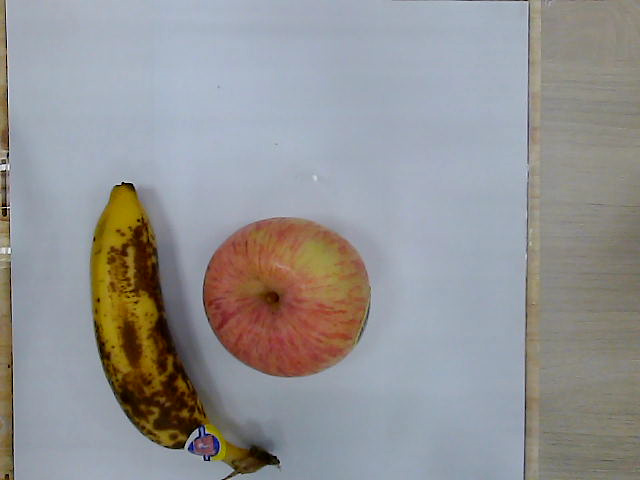fresh_apple: (203, 218, 373, 377)
rotten_banana: (90, 184, 278, 480)
